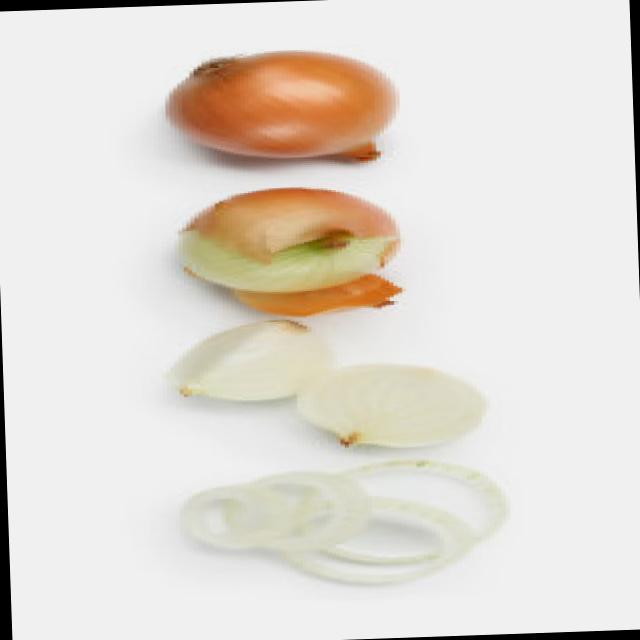onion: (152, 451, 526, 597), (138, 28, 428, 170), (150, 177, 432, 318), (164, 318, 458, 446)
